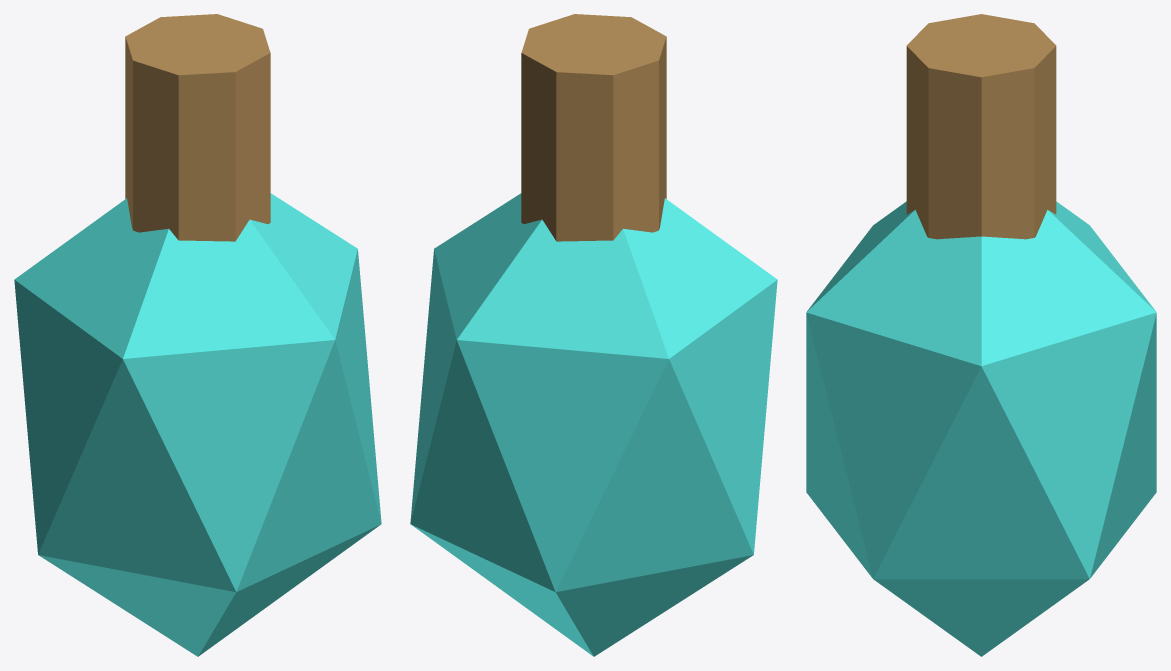
Rendered from SH10_SantaWater.fbx.
3 views of the same model, side by side, from view 1: azimuth 30°, elevation 25°; view 2: azimuth 150°, elevation 25°; view 3: azimuth 270°, elevation 25° (orthographic).
Parts seen in each view (by area): view 1: SH10_SantaWater; view 2: SH10_SantaWater; view 3: SH10_SantaWater.
Part boxes in pixels (left/top/right/bottom): SH10_SantaWater: left=14, top=14, right=381, bottom=656; SH10_SantaWater: left=410, top=14, right=777, bottom=656; SH10_SantaWater: left=806, top=14, right=1156, bottom=656.
Size of the model in its own units: 39.35 by 72 by 37.43.
